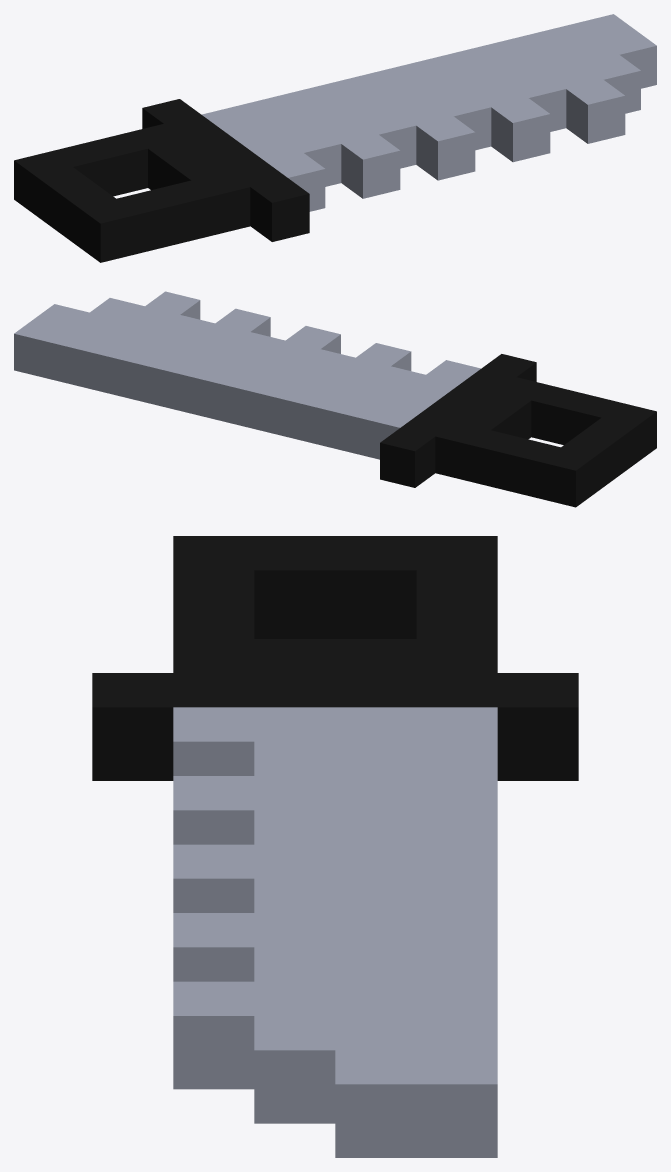
The model's file is Medieval Assets-215-Crafting - Table - Woodworking.obj.
3 renders of one model, top to bottom at view 1: azimuth 30°, elevation 25°; view 2: azimuth 150°, elevation 25°; view 3: azimuth 270°, elevation 25°, orthographic. The views are drawn at different scales.
Visible parts, largest first — view 1: Crafting - Table - Woodworking; view 2: Crafting - Table - Woodworking; view 3: Crafting - Table - Woodworking.
Boxes of the visible parts, left/top/right/bottom form: Crafting - Table - Woodworking: left=14, top=14, right=656, bottom=262; Crafting - Table - Woodworking: left=14, top=291, right=656, bottom=507; Crafting - Table - Woodworking: left=92, top=536, right=578, bottom=1157.
Size of the model in its own units: 1.6 by 0.1 by 0.6.
Materials: 1 (1 with a texture image).
